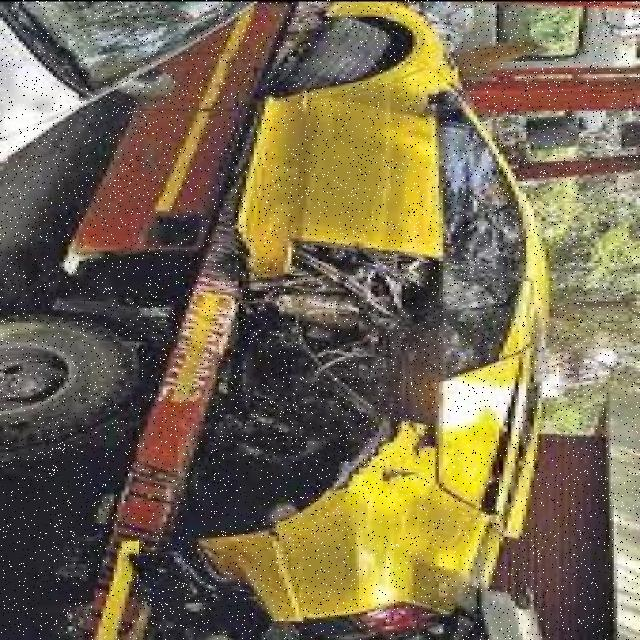damage: (203, 241, 461, 559)
